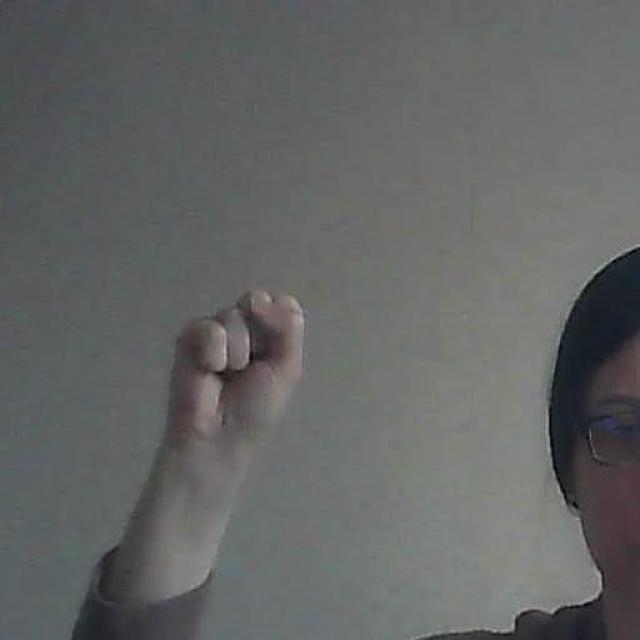hand: (146, 285, 306, 468)
